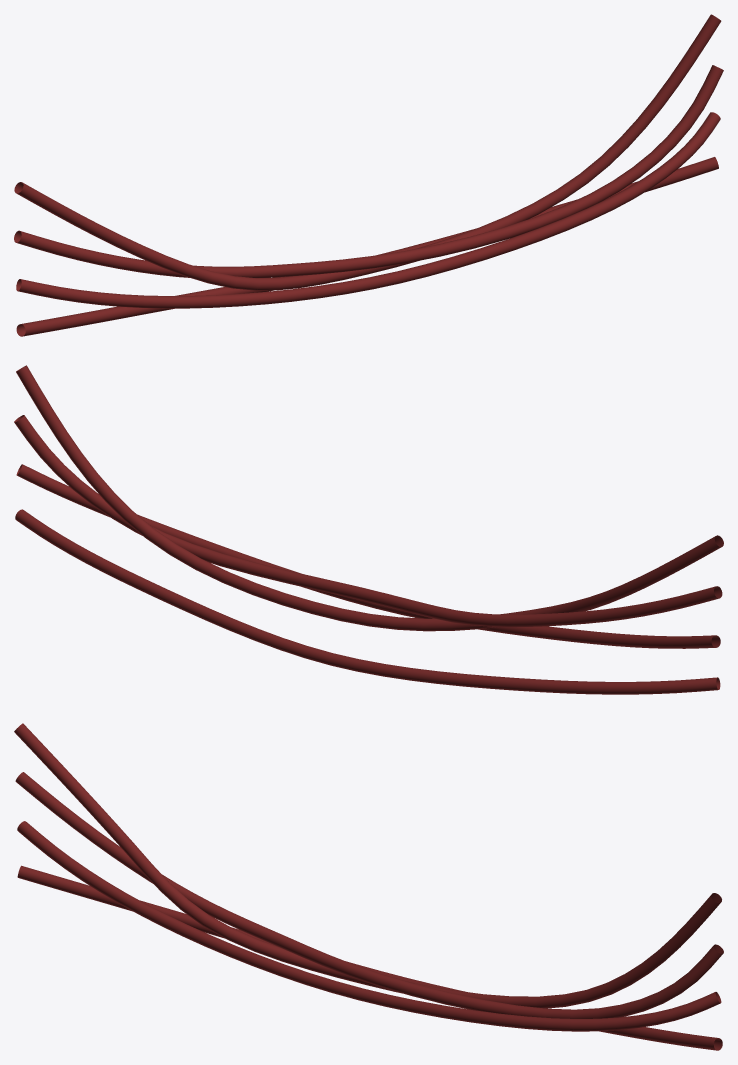
File: SM_PD_Rope_Top_Broken.fbx
3 renders of one model, top to bottom at view 1: azimuth 30°, elevation 25°; view 2: azimuth 150°, elevation 25°; view 3: azimuth 330°, elevation 25°, orthographic.
Parts seen in each view (by area): view 1: SM_PD_Rope_Damaged_01; view 2: SM_PD_Rope_Damaged_01; view 3: SM_PD_Rope_Damaged_01.
Part boxes in pixels (x1,y1,x2,y2): SM_PD_Rope_Damaged_01: [14, 14, 723, 336]; SM_PD_Rope_Damaged_01: [14, 365, 723, 694]; SM_PD_Rope_Damaged_01: [14, 723, 723, 1050].
Bounding box in the file's own units: 1784 × 475 × 231.
1 material, 1 textured.
